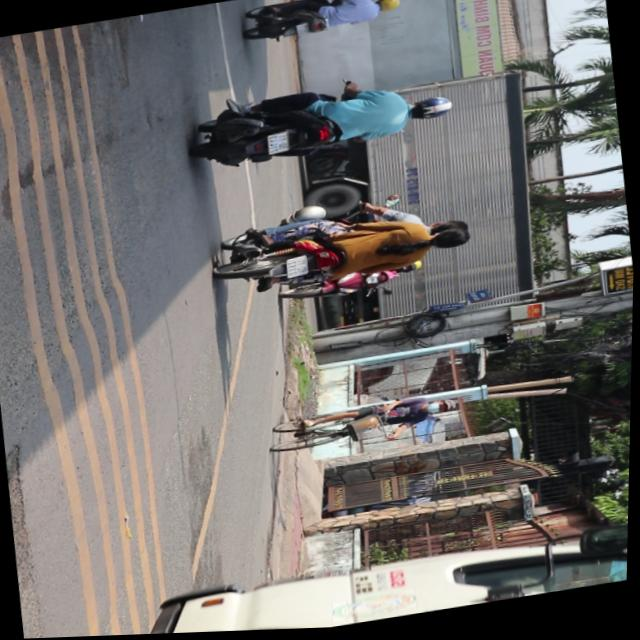helmet: (411, 98, 454, 127)
licenseplate: (209, 193, 479, 302), (188, 70, 458, 179)
motorcyclist: (429, 228, 474, 257)
nohelmet: (286, 258, 309, 281), (267, 134, 289, 156)
